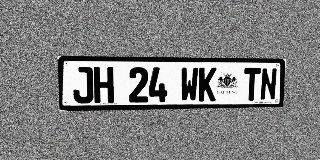2: (129, 67, 148, 103)
4: (149, 67, 167, 102)
H: (94, 67, 114, 103)
J: (72, 67, 94, 103)
K: (198, 67, 217, 101)
N: (260, 68, 277, 100)
T: (243, 68, 261, 101)
W: (180, 67, 199, 102)
